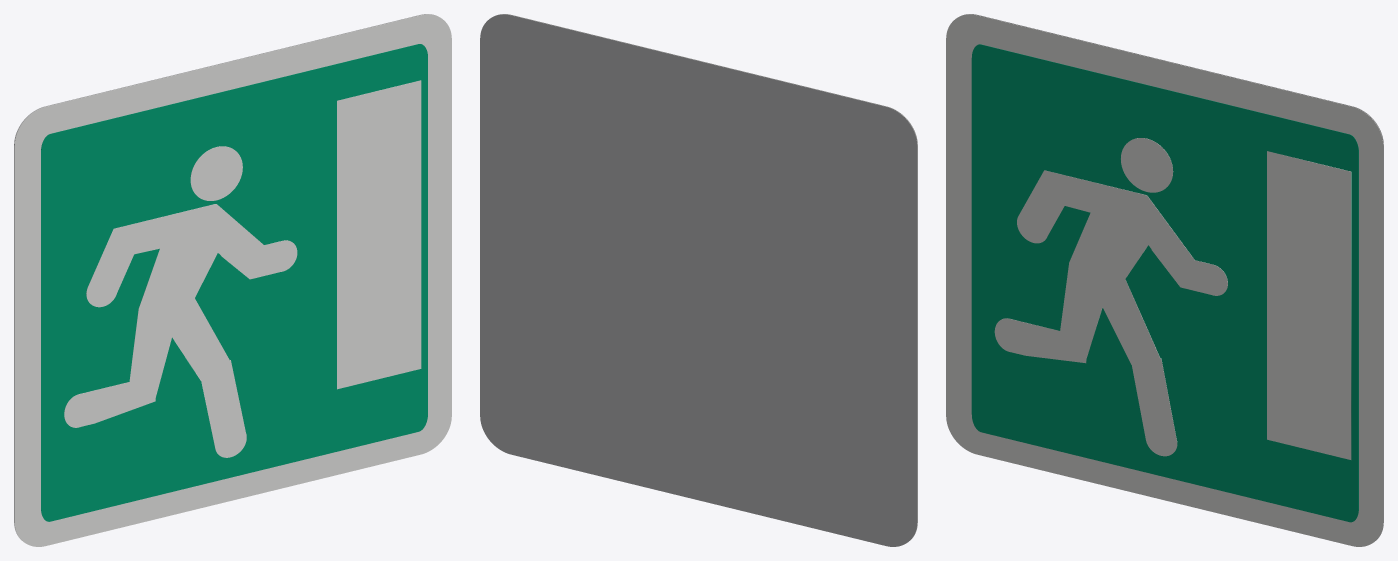
3 views of the same model, side by side, from view 1: azimuth 30°, elevation 25°; view 2: azimuth 150°, elevation 25°; view 3: azimuth 330°, elevation 25° (orthographic).
Parts seen in each view (by area): view 1: CE30a_p02, CE30a_p00, CE30a_p05, CE30a_p03, CE30a_p04, CE30a_dos; view 2: CE30a_dos, CE30a_p00; view 3: CE30a_p02, CE30a_p00, CE30a_p05, CE30a_p03, CE30a_p04, CE30a_dos.
Boxes of the visible parts, <box> form: CE30a_p02: <box>41,44,427,521</box>; CE30a_p00: <box>14,14,451,546</box>; CE30a_p05: <box>337,80,421,389</box>; CE30a_p03: <box>64,204,297,457</box>; CE30a_p04: <box>190,146,242,200</box>; CE30a_dos: <box>14,14,436,540</box>; CE30a_dos: <box>480,14,917,546</box>; CE30a_p00: <box>495,14,917,540</box>; CE30a_p02: <box>971,44,1358,522</box>; CE30a_p00: <box>946,14,1383,546</box>; CE30a_p05: <box>1267,151,1351,459</box>; CE30a_p03: <box>994,170,1227,456</box>; CE30a_p04: <box>1121,138,1173,192</box>; CE30a_dos: <box>961,14,1383,540</box>.
Size of the model in its own units: 0.7 by 0.6723 by 0.0039.
